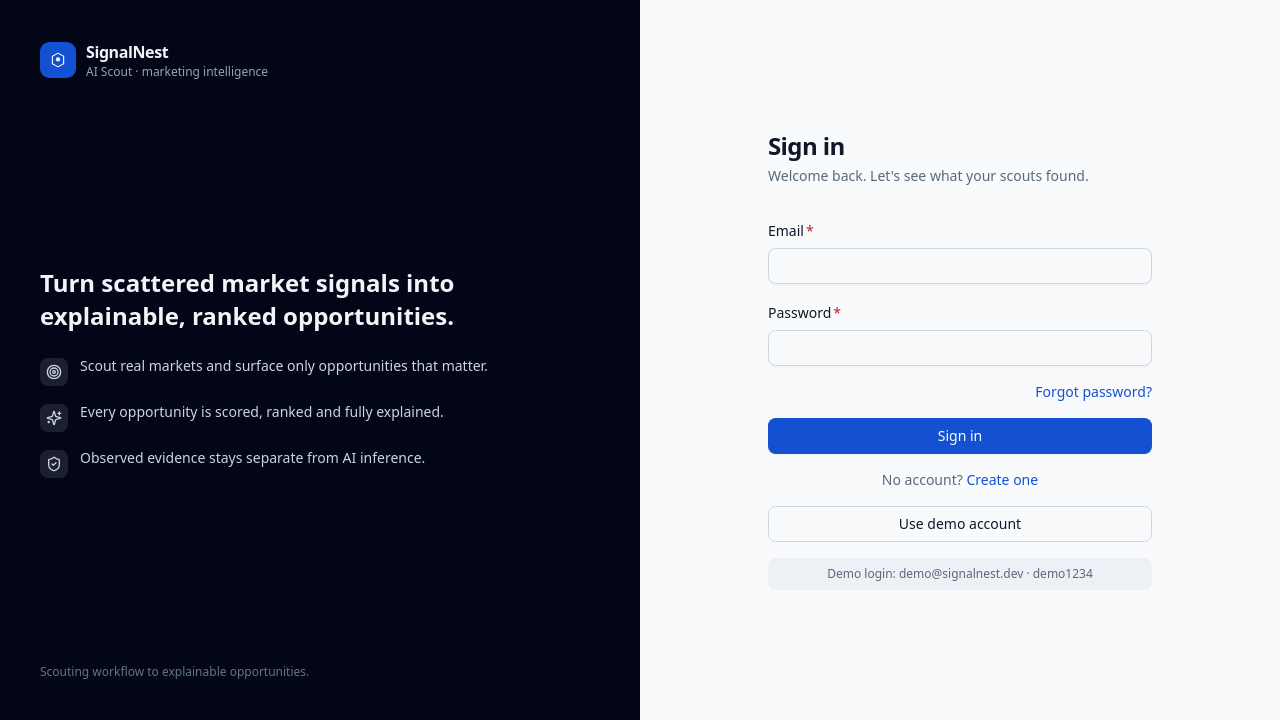
route inventory (plan §5A.3) › /opportunities sends a signed-out visitor to sign-in, then back after sign-in
This screenshot has width=1280, height=720.
Expected: the heading "Sign in" is shown, [768,129,845,162]
Click the button "Use demo account" at (960, 524), box [768,506,1152,542]
(page scrolled)
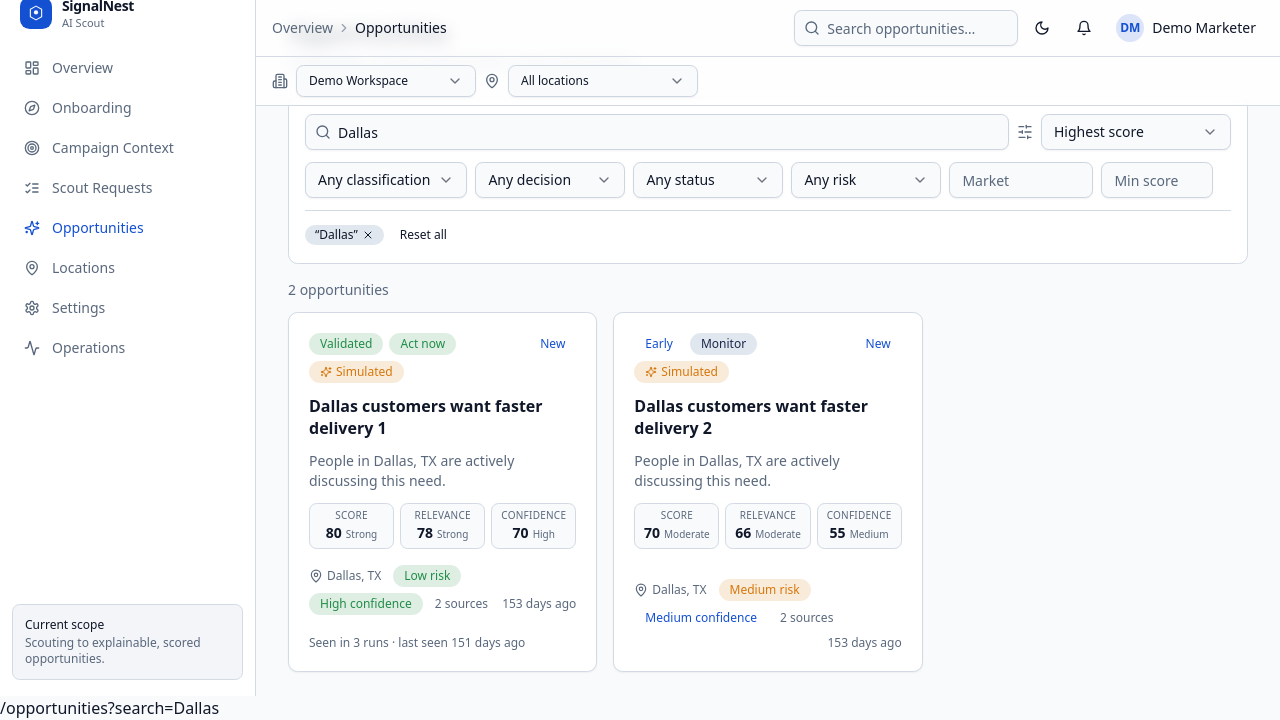
Expected: the heading "Opportunities" is shown, [288,16,449,49]
